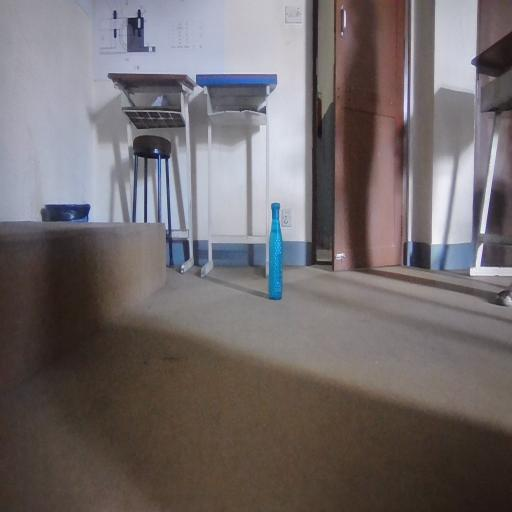Bottle: (267, 195, 306, 329)
